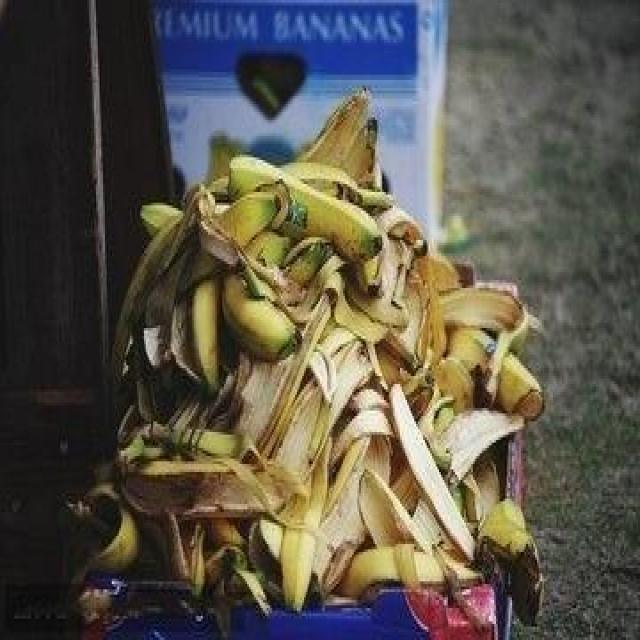Wet Waste: (62, 80, 550, 635)
